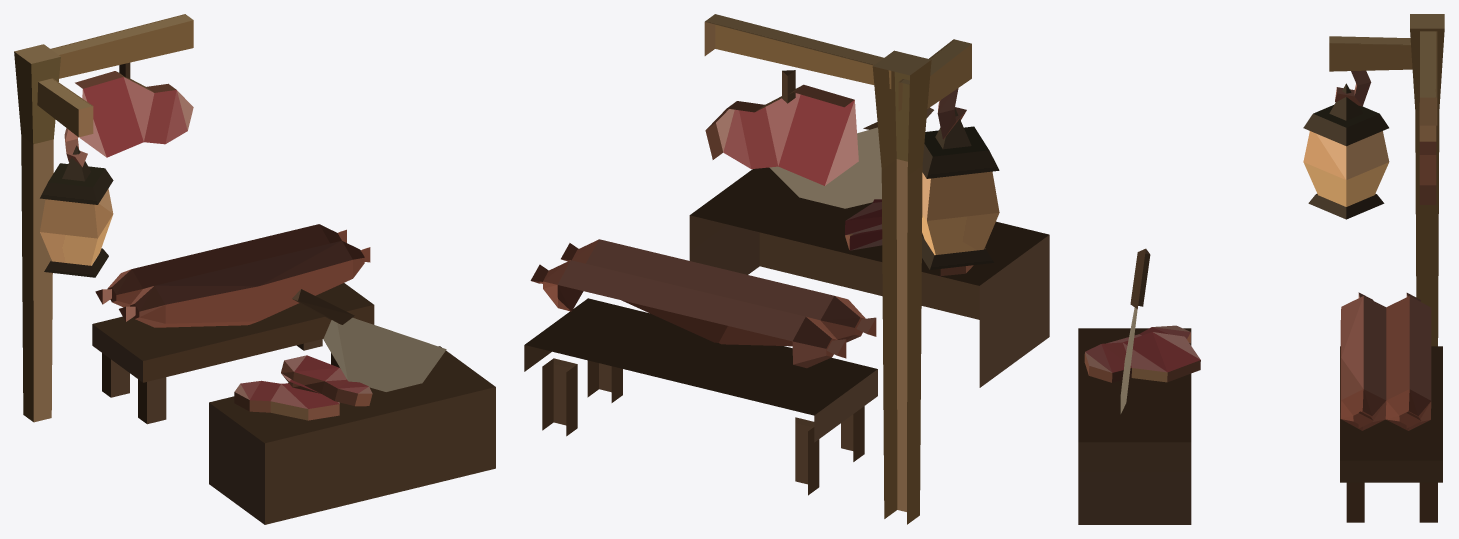
File: village-decor01.fbx
3 renders of one model, left to right at view 1: azimuth 30°, elevation 25°; view 2: azimuth 150°, elevation 25°; view 3: azimuth 270°, elevation 25°, orthographic. The views are drawn at different scales.
Visible parts, largest first — view 1: village-decor01; view 2: village-decor01; view 3: village-decor01.
Part boxes in pixels (x1,y1,x2,y2): village-decor01: (14, 14, 495, 524); village-decor01: (524, 14, 1049, 524); village-decor01: (1078, 14, 1444, 524).
Size of the model in its own units: 0.965 by 0.9911 by 0.8976.
Materials: 1 (1 with a texture image).
